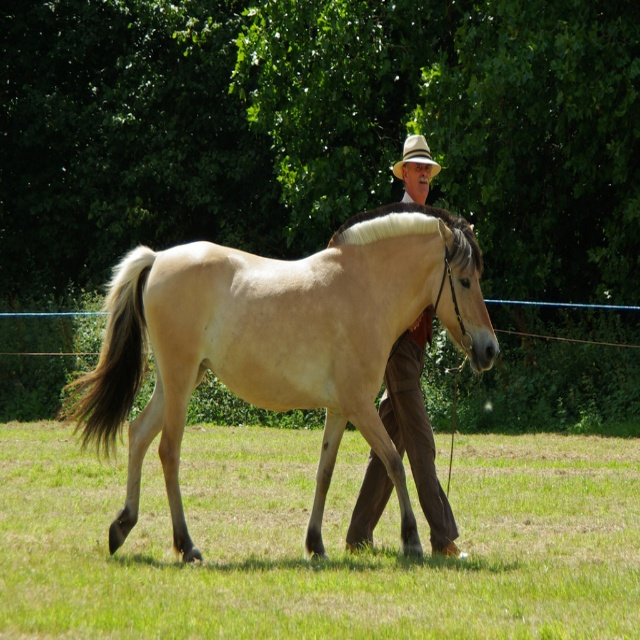Horse: (59, 200, 503, 562)
